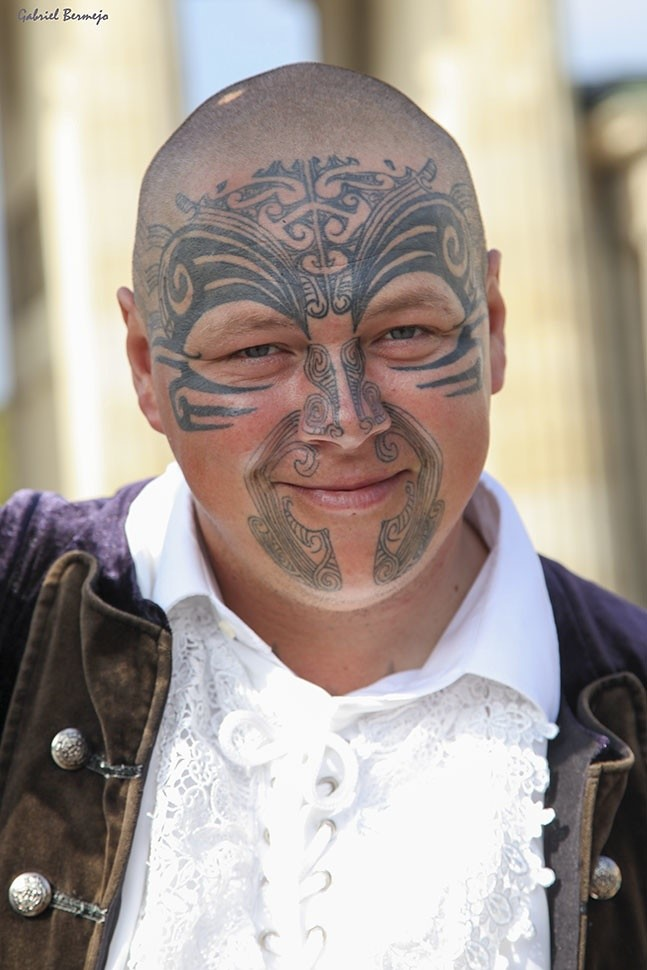face_no_mask: (118, 64, 508, 623)
